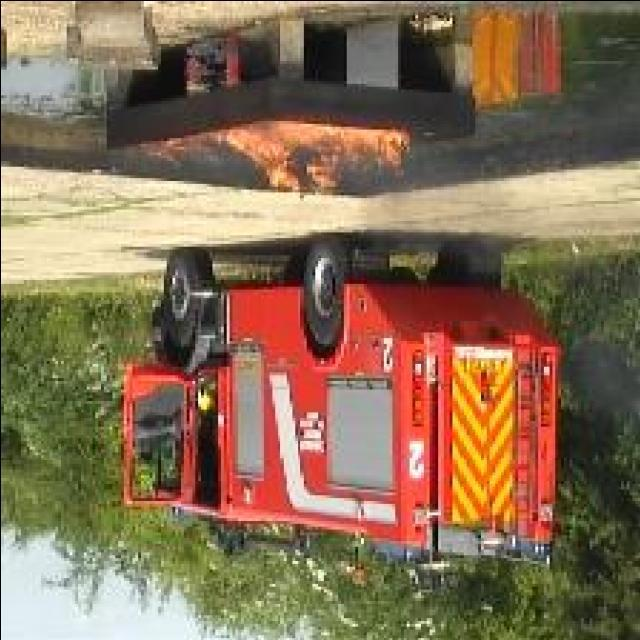Fire: (132, 116, 408, 193)
